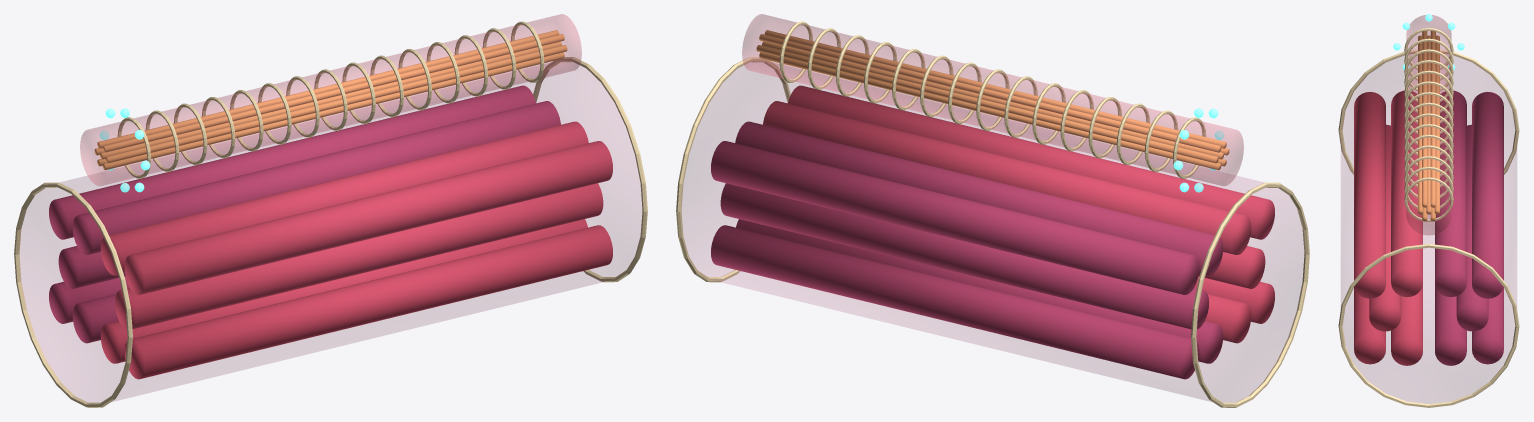
The model's file is muscle-fiber.glb.
3 renders of one model, left to right at view 1: azimuth 30°, elevation 25°; view 2: azimuth 150°, elevation 25°; view 3: azimuth 270°, elevation 25°, orthographic. The views are drawn at different scales.
Visible parts, largest first — view 1: FascicleSheath, SelectedMuscleFiber, MuscleFiber_07, MuscleFiber_09, MuscleFiber_01, MuscleFiber_04, MuscleFiber_03, MuscleFiber_08, MuscleFiber_05, Myofibril_03, Myofibril_05, FascicleBoundary_01 (+7 smaller); view 2: FascicleSheath, SelectedMuscleFiber, MuscleFiber_08, MuscleFiber_10, MuscleFiber_02, MuscleFiber_03, MuscleFiber_04, MuscleFiber_07, MuscleFiber_06, Myofibril_02, Myofibril_04, FascicleBoundary_01 (+7 smaller); view 3: FascicleSheath, SelectedMuscleFiber, MuscleFiber_07, MuscleFiber_08, MuscleFiber_03, MuscleFiber_04, FascicleBoundary_02, MuscleFiber_01, MuscleFiber_02, MuscleFiber_05, MuscleFiber_06, MuscleFiber_09 (+22 smaller).
Part boxes in pixels (x1,y1,x2,y2): FascicleSheath: [19, 65, 642, 402]; SelectedMuscleFiber: [80, 14, 581, 185]; MuscleFiber_07: [124, 141, 612, 294]; MuscleFiber_09: [124, 225, 612, 379]; MuscleFiber_01: [114, 183, 603, 329]; MuscleFiber_04: [72, 101, 560, 254]; MuscleFiber_03: [100, 121, 588, 275]; MuscleFiber_08: [49, 85, 535, 239]; MuscleFiber_05: [100, 219, 587, 363]; Myofibril_03: [105, 45, 567, 163]; Myofibril_05: [102, 34, 564, 152]; FascicleBoundary_01: [14, 182, 132, 407]; FascicleSheath: [681, 65, 1304, 402]; SelectedMuscleFiber: [742, 14, 1243, 185]; MuscleFiber_08: [711, 141, 1199, 294]; MuscleFiber_10: [711, 225, 1199, 379]; MuscleFiber_02: [720, 183, 1209, 329]; MuscleFiber_03: [763, 101, 1251, 254]; MuscleFiber_04: [735, 121, 1223, 275]; MuscleFiber_07: [788, 85, 1274, 239]; MuscleFiber_06: [736, 219, 1223, 363]; Myofibril_02: [756, 45, 1218, 163]; Myofibril_04: [759, 34, 1221, 152]; FascicleBoundary_01: [1191, 182, 1309, 407]; FascicleSheath: [1341, 55, 1516, 403]; SelectedMuscleFiber: [1406, 15, 1451, 235]; MuscleFiber_07: [1354, 92, 1385, 298]; MuscleFiber_08: [1472, 92, 1503, 298]; MuscleFiber_03: [1391, 90, 1422, 297]; MuscleFiber_04: [1435, 90, 1466, 297]; FascicleBoundary_02: [1338, 244, 1519, 407]; MuscleFiber_01: [1369, 124, 1401, 331]; MuscleFiber_02: [1456, 124, 1488, 331]; MuscleFiber_05: [1391, 285, 1422, 365]; MuscleFiber_06: [1435, 285, 1466, 365]; MuscleFiber_09: [1354, 287, 1385, 364].
Size of the model in its own units: 5.54 by 2.85 by 2.15.
